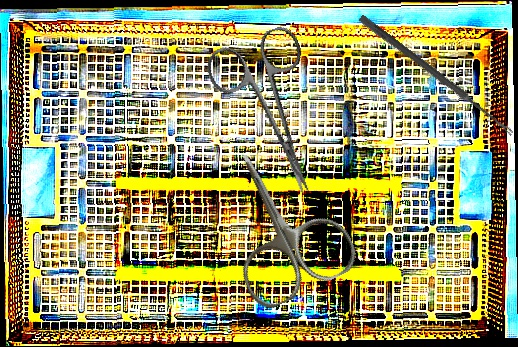Iris Scissors: (193, 129, 364, 315), (200, 22, 348, 210)
Surgical Spoon: (357, 14, 516, 137)
